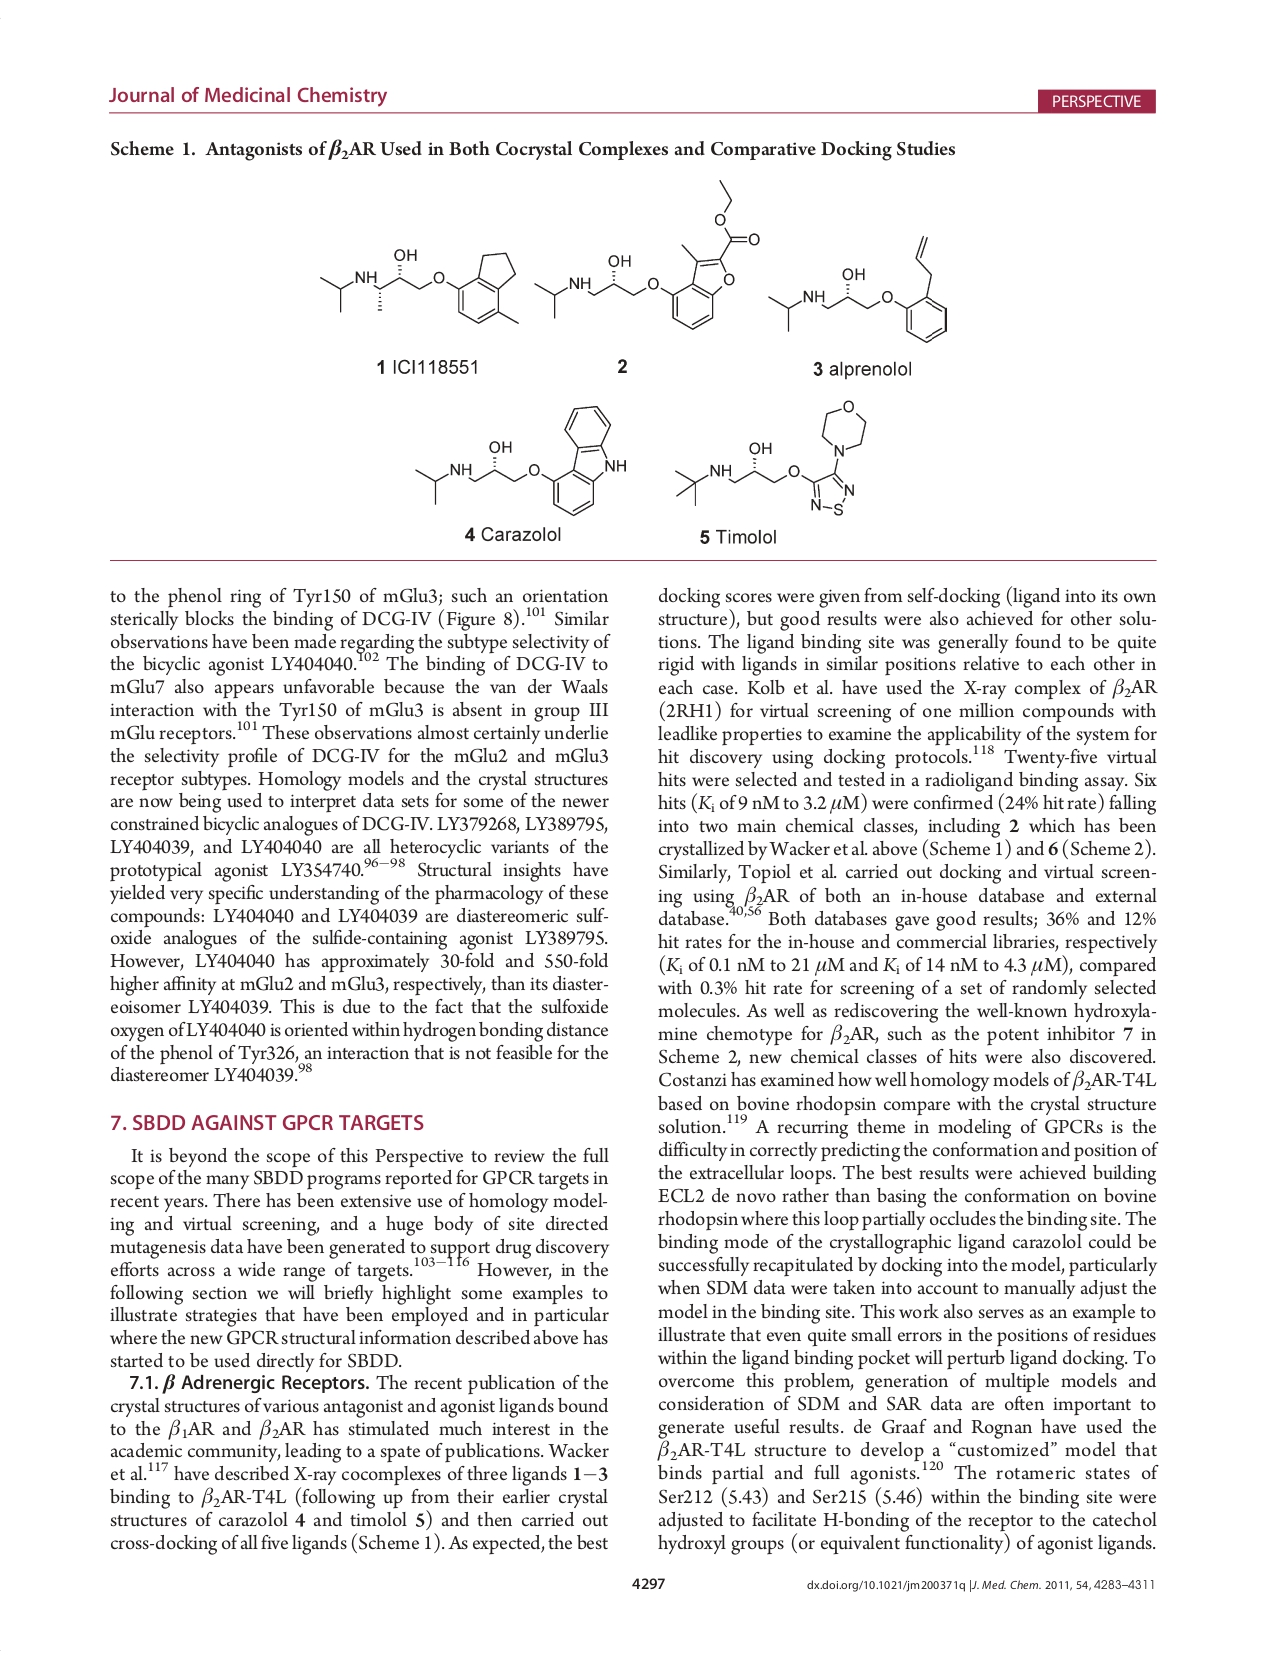exist_molecular: (531, 177, 761, 332), (410, 402, 629, 523), (673, 398, 868, 519), (765, 233, 949, 346), (316, 243, 521, 330)
